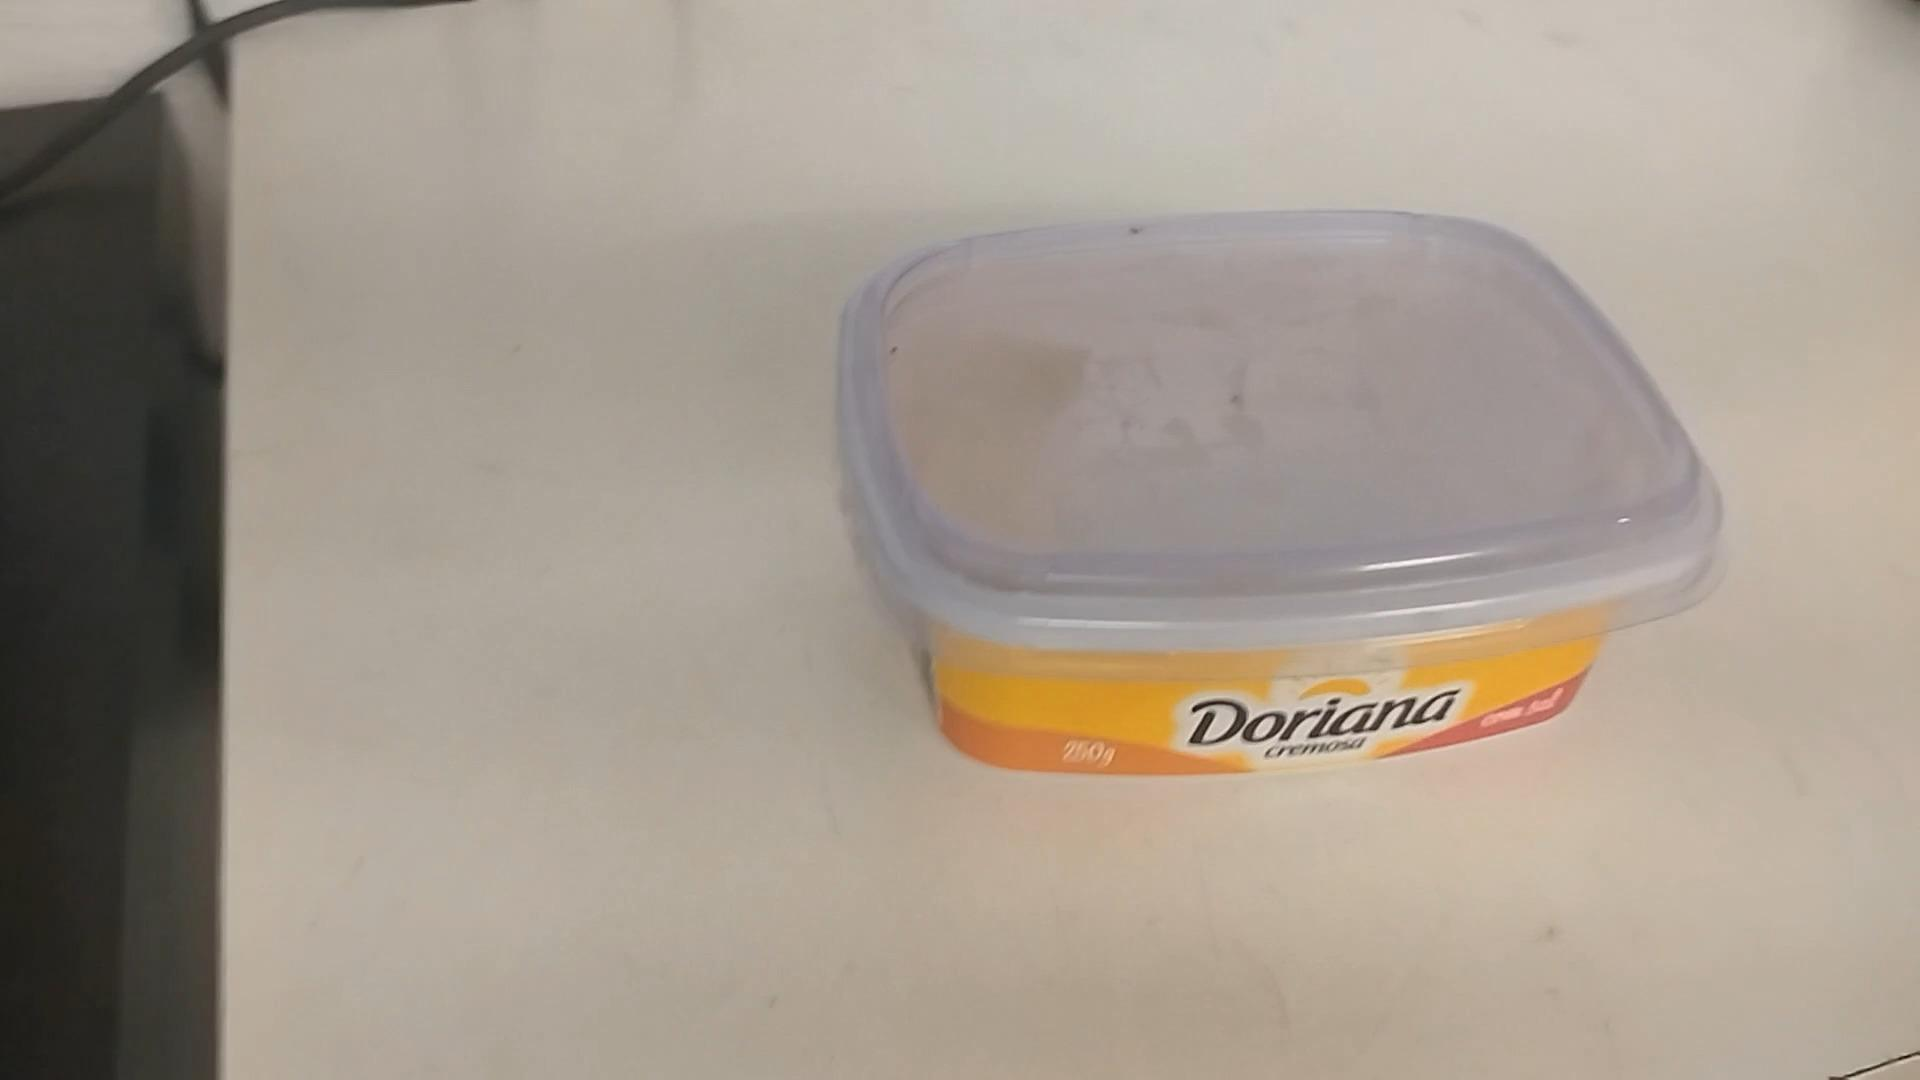butter: (840, 218, 1731, 777)
